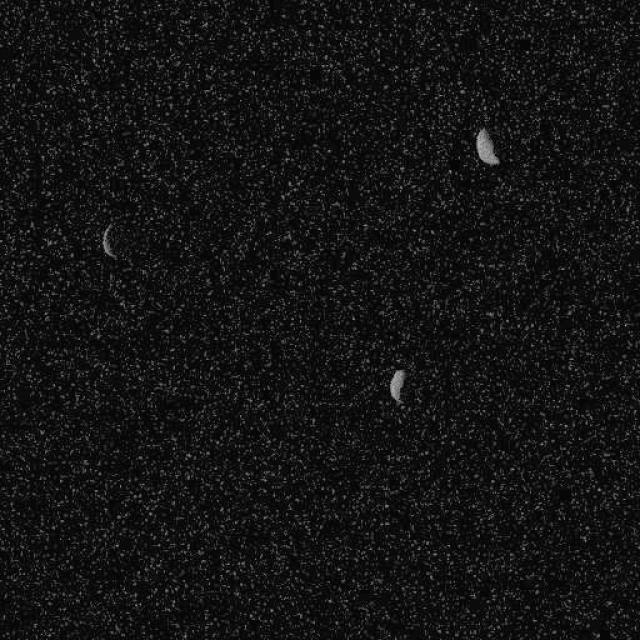D2: (474, 126, 500, 166), (100, 221, 118, 259), (389, 368, 406, 402)
